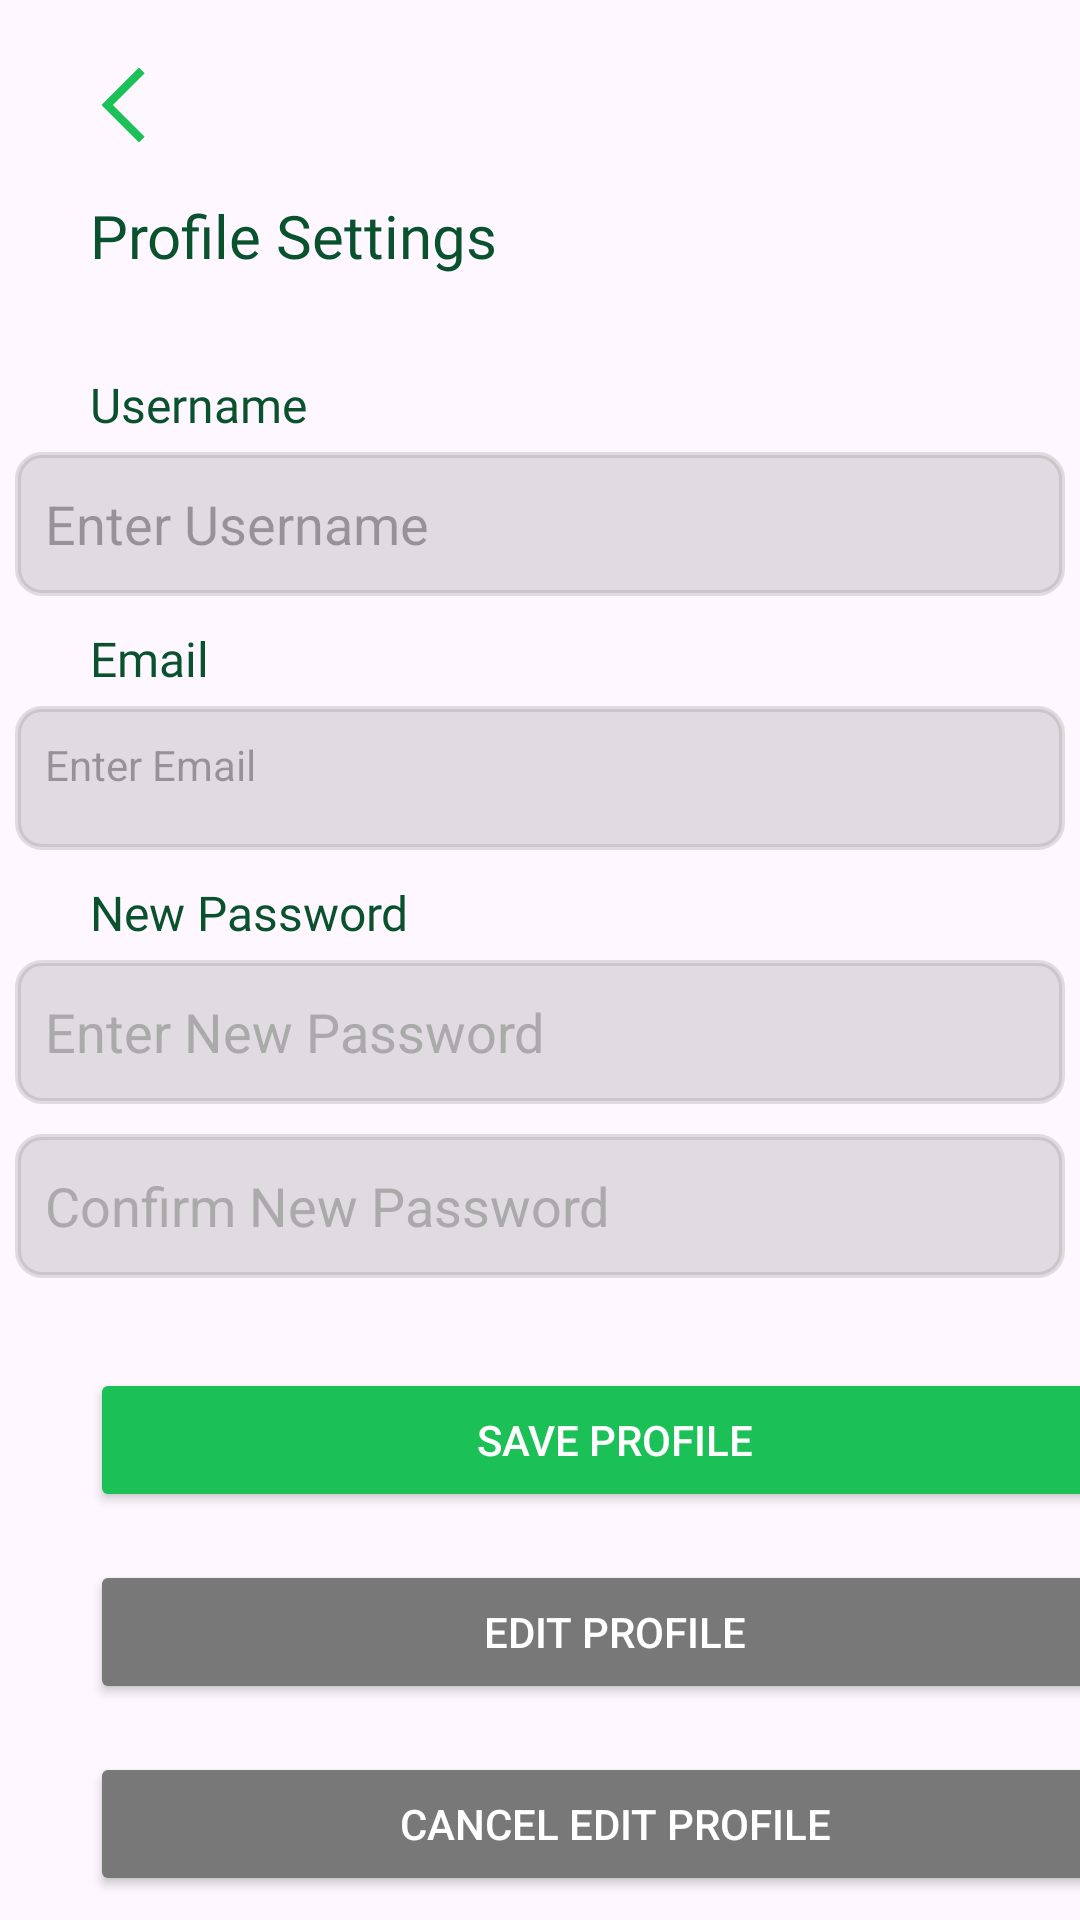

Where to tap for icons on this 1080px x 1920px app screen, as (x,y):
arrow back eaed: (123,105)
